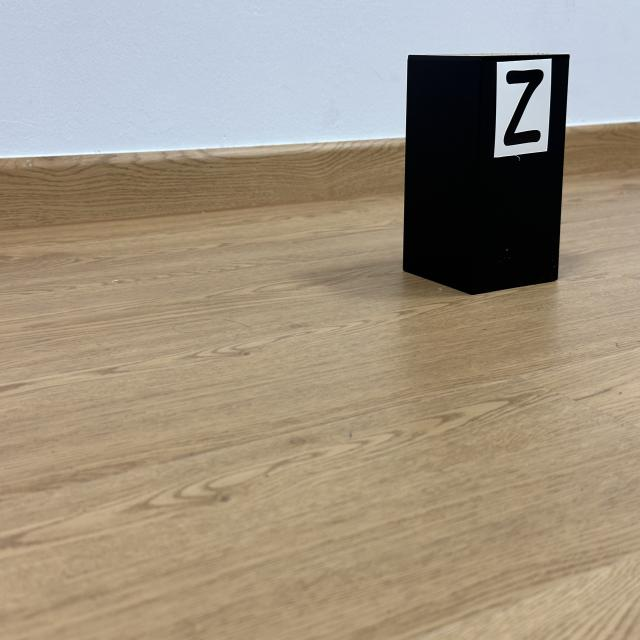Z: (504, 70, 544, 147)
